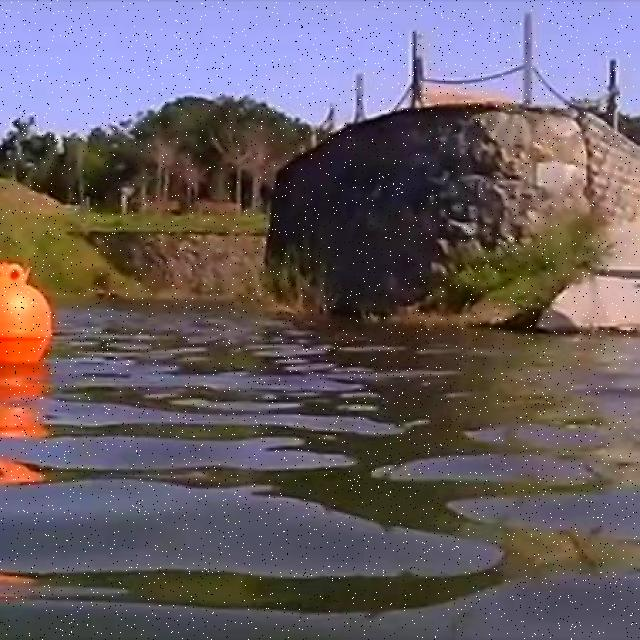buoy: (0, 259, 55, 366)
